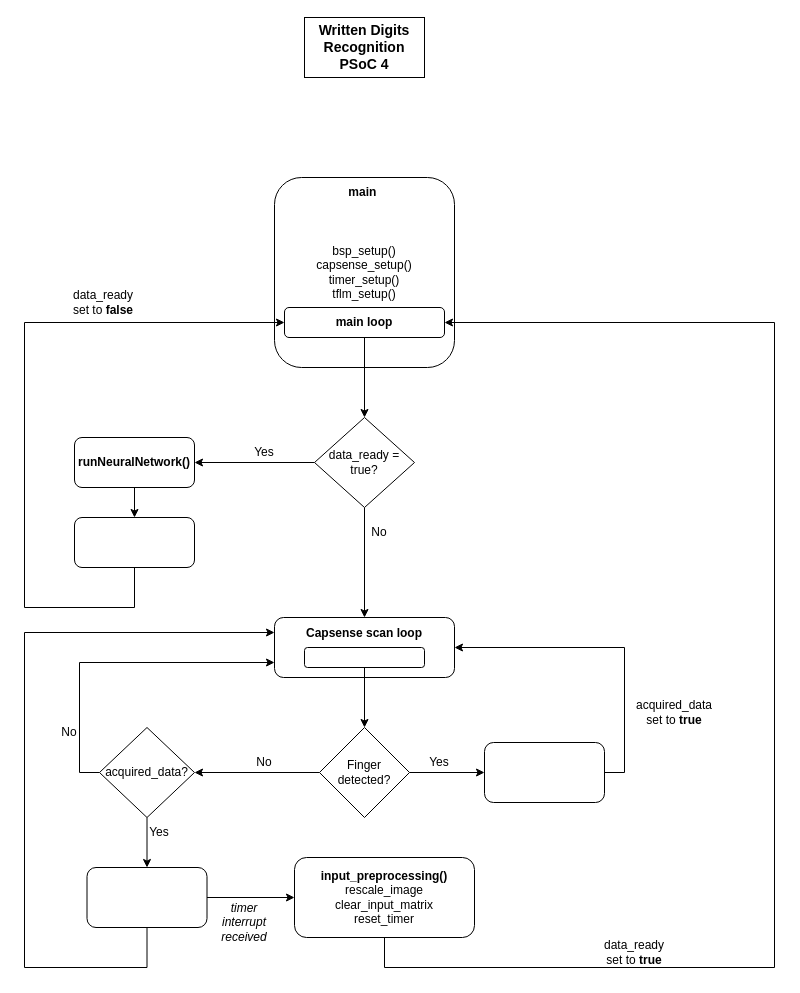
Image size: 800x993. Some labels were removed from this diagram. Here are the shapes that lost their labels. From the top down, the centre of each, then its label:
point (134, 542): printSerialData()
point (364, 657): acquire_data()
point (544, 772): stop_timer (if active); fillInputMatrix() printXYCoordinates();
point (146, 897): timer_start() (if stopped)
